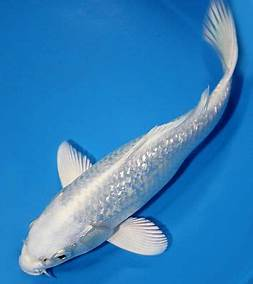white: (18, 1, 239, 277)
